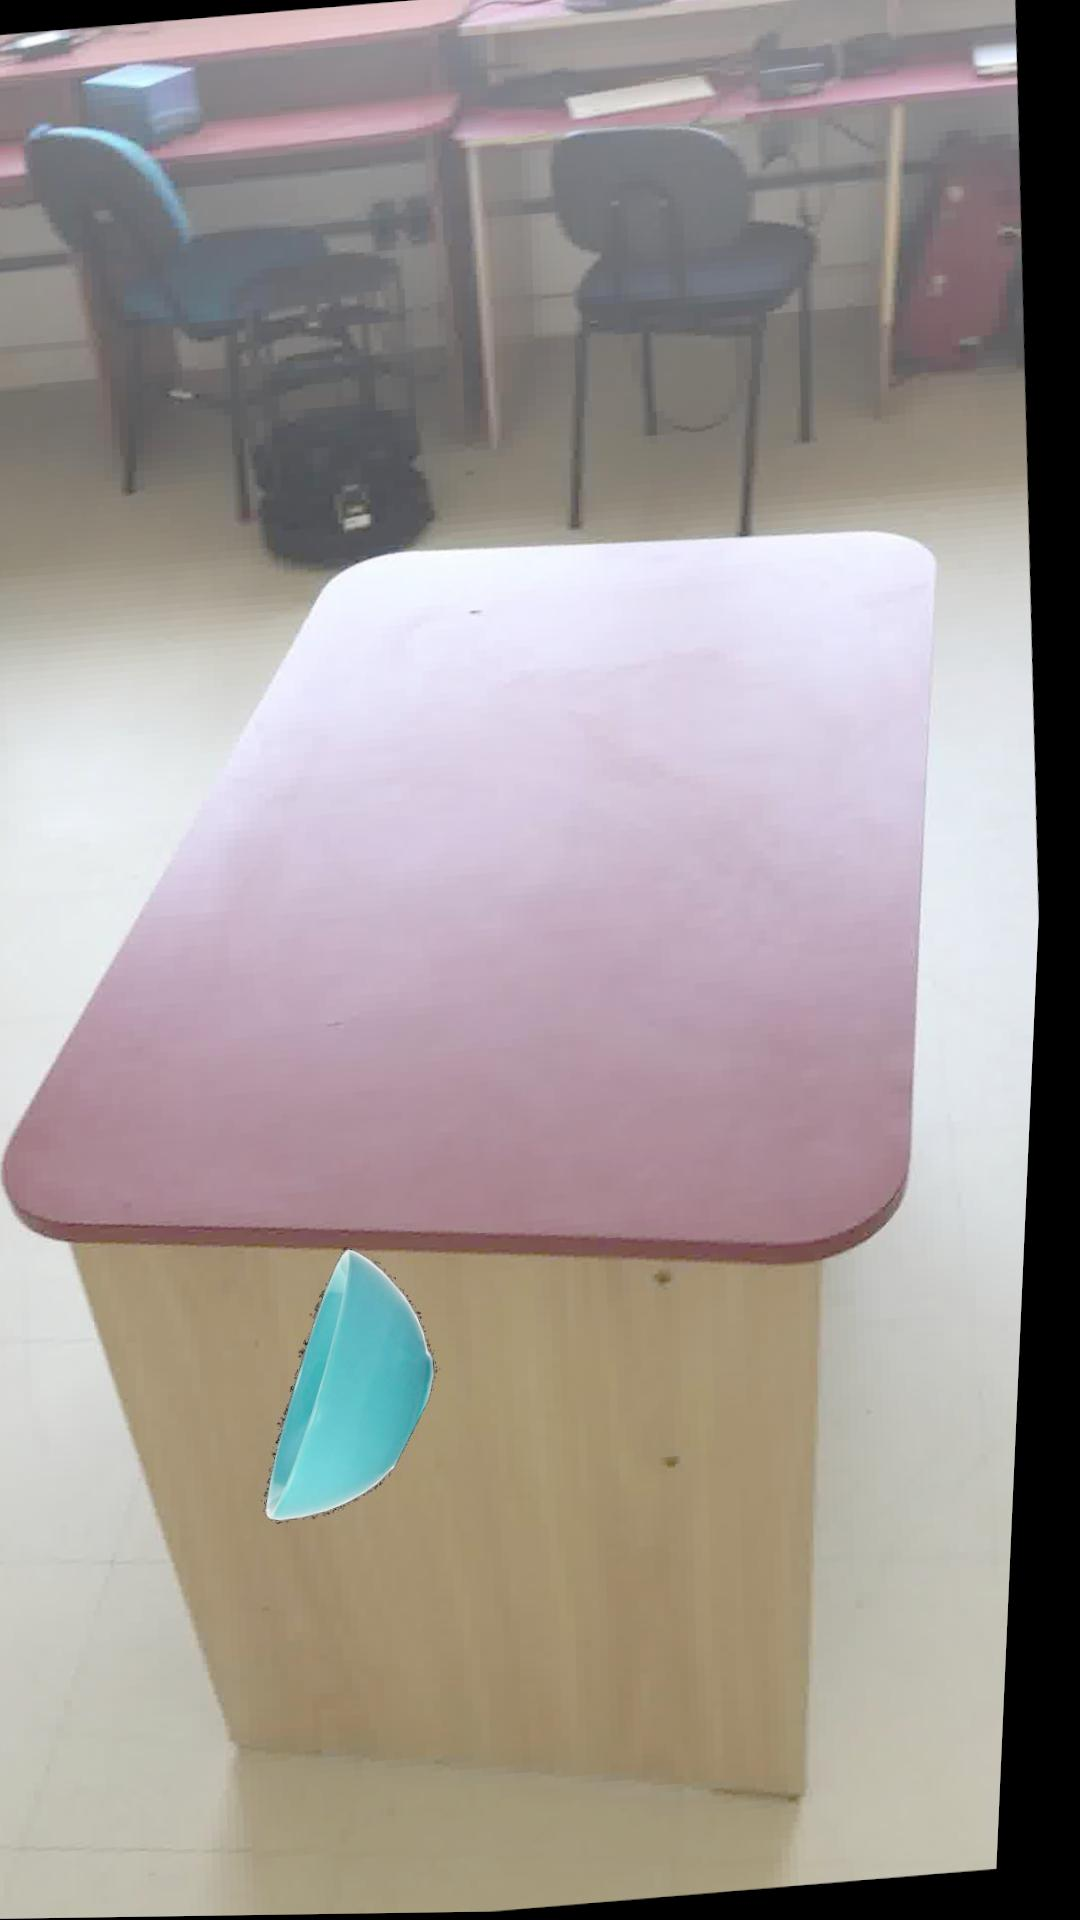bowl: (280, 1249, 448, 1520)
